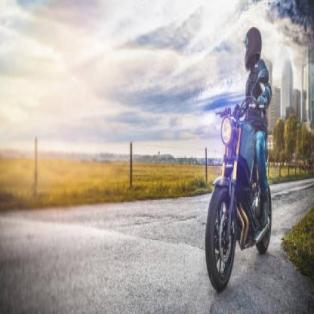Motocicleta: (204, 98, 274, 294)
